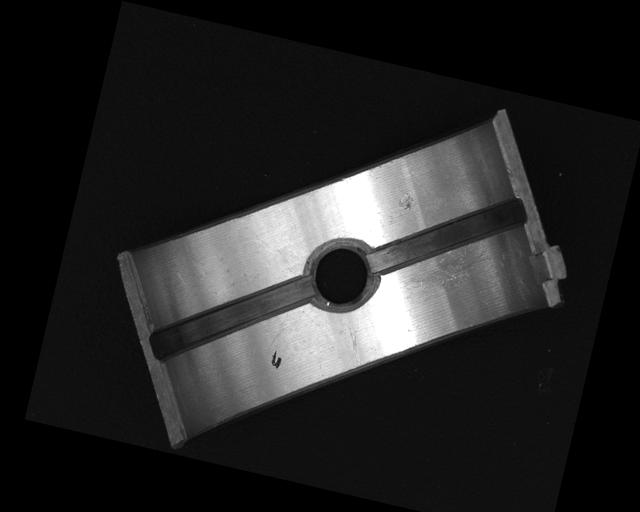blot: (268, 349, 284, 370)
bruise: (396, 191, 416, 212)
gap: (147, 246, 314, 389), (367, 168, 530, 301)
hole: (302, 231, 382, 317)
nick: (338, 324, 369, 367)
scratch: (401, 229, 493, 308)
